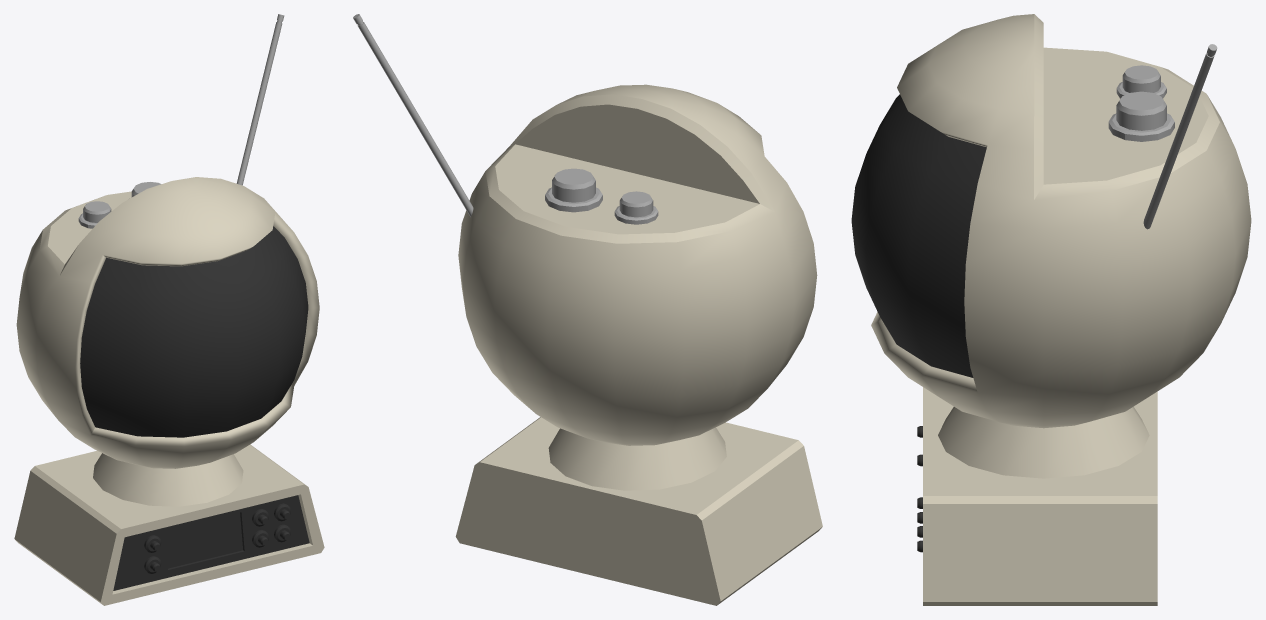
Rendered from tv_asset.fbx.
The picture shows the model from 3 angles, left to right: view 1: azimuth 30°, elevation 25°; view 2: azimuth 150°, elevation 25°; view 3: azimuth 270°, elevation 25°; orthographic projection. The views are drawn at different scales.
Parts seen in each view (by area): view 1: Assets_ProjectC:tv_asset; view 2: Assets_ProjectC:tv_asset; view 3: Assets_ProjectC:tv_asset.
Boxes of the visible parts, x1,y1,x2,y2 form: Assets_ProjectC:tv_asset: [14, 14, 324, 605]; Assets_ProjectC:tv_asset: [353, 14, 822, 605]; Assets_ProjectC:tv_asset: [851, 14, 1251, 605].
Size of the model in its own units: 1.12 by 1.53 by 0.9188.
